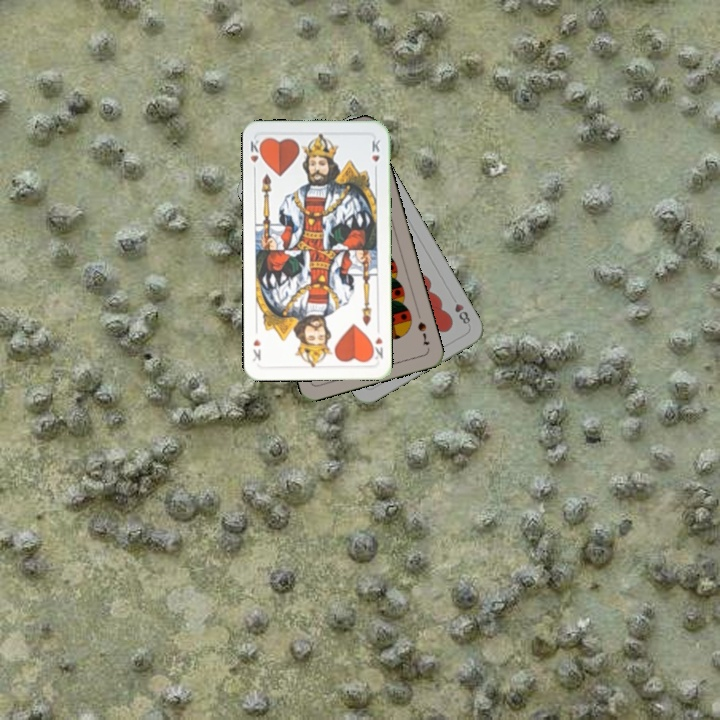H8: (447, 292, 473, 329)
HK: (246, 135, 265, 176), (367, 333, 385, 364)
S7: (413, 318, 432, 348)
